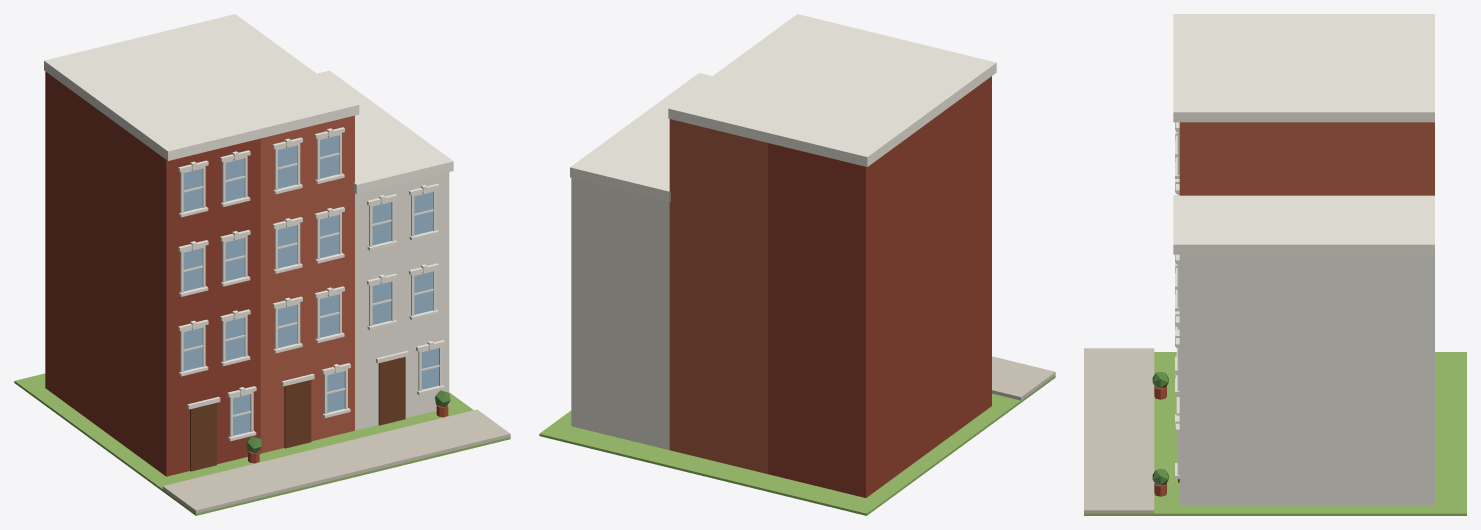
File: Konut_sira_evler_2_Hafif.fbx
3 views of the same model, side by side, from view 1: azimuth 30°, elevation 25°; view 2: azimuth 150°, elevation 25°; view 3: azimuth 270°, elevation 25° (orthographic). The views are drawn at different scales.
Parts seen in each view (by area): view 1: Konut_sira_evler_2_Hafif; view 2: Konut_sira_evler_2_Hafif; view 3: Konut_sira_evler_2_Hafif.
Boxes of the visible parts, x1,y1,x2,y2 form: Konut_sira_evler_2_Hafif: (14, 14, 510, 515); Konut_sira_evler_2_Hafif: (539, 14, 1055, 515); Konut_sira_evler_2_Hafif: (1084, 14, 1466, 515).
Bounding box in the file's own units: 12 × 12.03 × 12.
